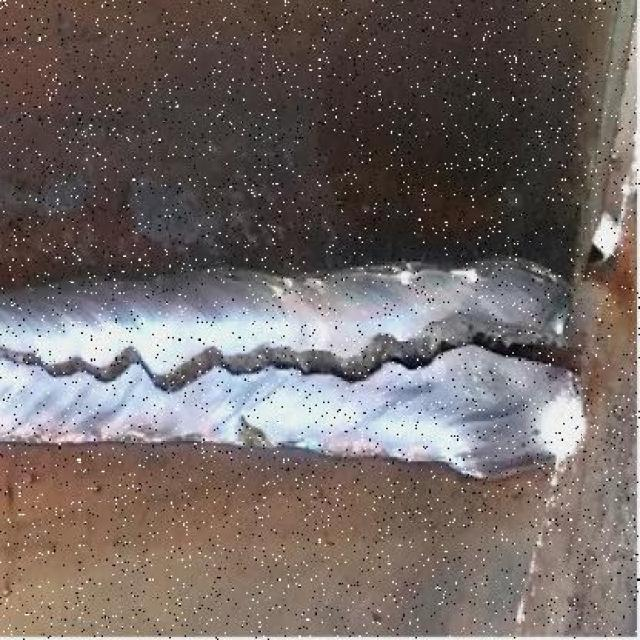Defect: (4, 314, 579, 397)
